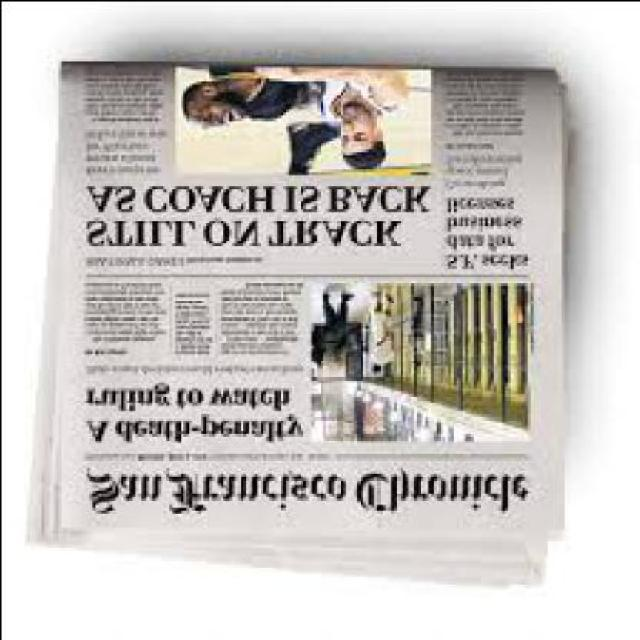PAPER: (26, 61, 569, 581)
